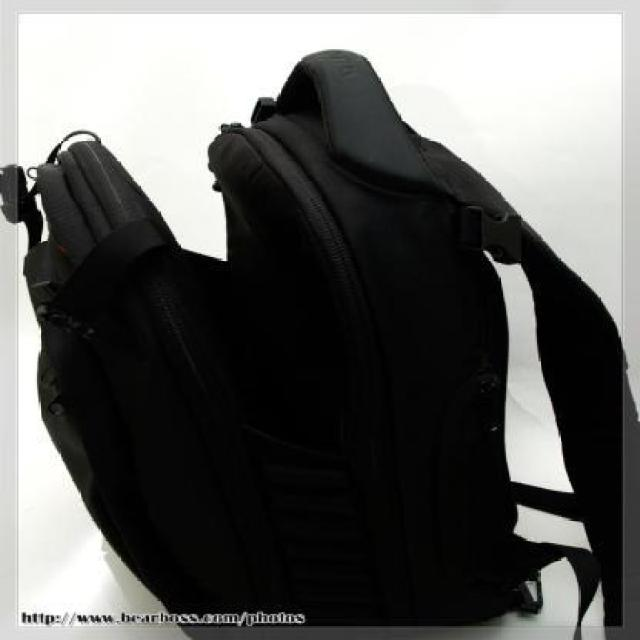backpack: (20, 49, 623, 609)
